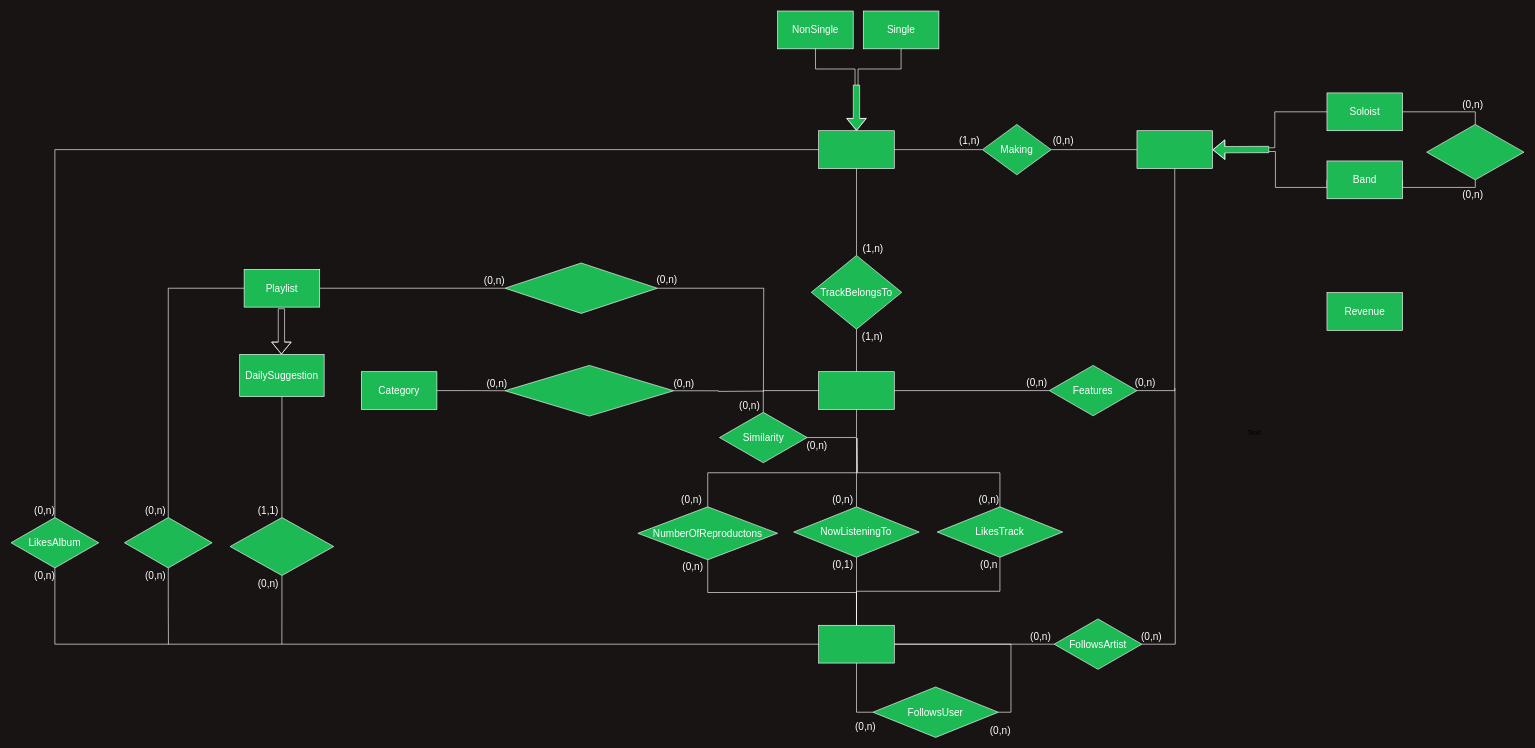
Some shapes in this 1535 by 748 pixel diagram are drawn without their labels. Each missing label, with the box of its shape:
Album: (818, 130, 894, 169)
Artist: (1136, 130, 1213, 169)
ArtistBelongsTo: (1426, 124, 1524, 180)
LikesPlaylist: (124, 517, 212, 568)
SuggestedPlaylist: (229, 517, 334, 576)
Track: (818, 371, 894, 410)
TrackBelongsToCategory: (504, 365, 674, 416)
TrackBelongsToPlaylist: (504, 262, 657, 313)
User: (818, 625, 894, 663)
